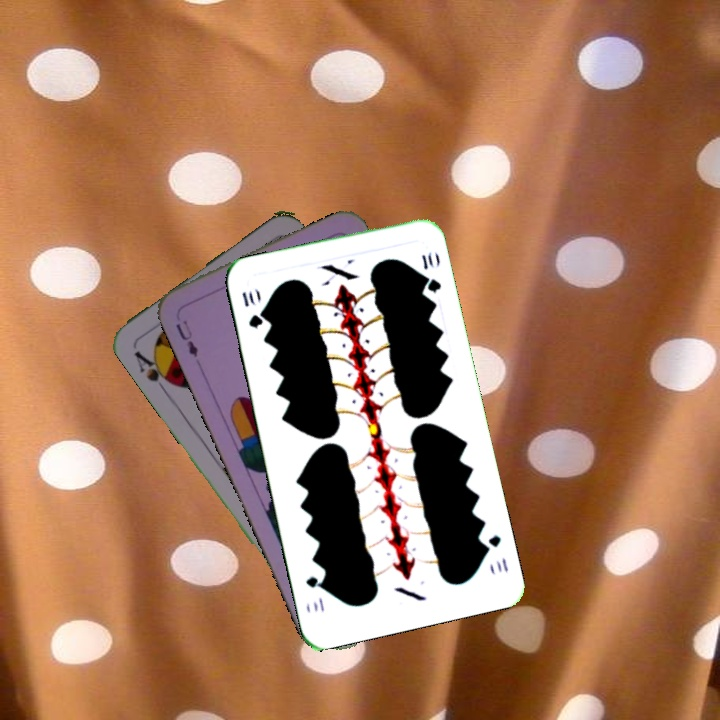EU: (171, 316, 201, 361)
G10: (479, 531, 511, 576), (238, 288, 265, 331)
SA: (130, 346, 176, 395)
